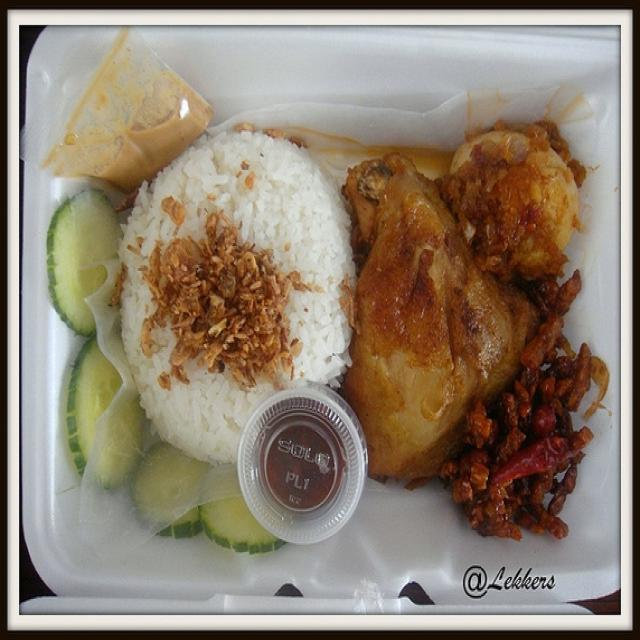米饭主食: (33, 44, 600, 595)
